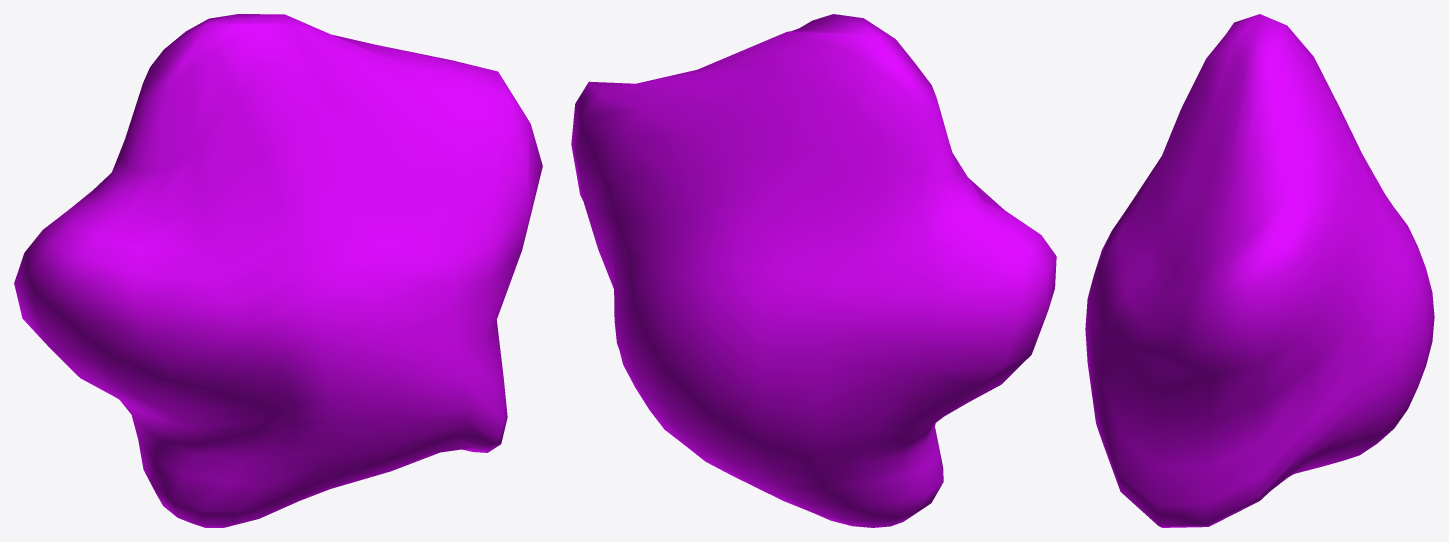
File: BubbleVente.fbx
3 renders of one model, left to right at view 1: azimuth 30°, elevation 25°; view 2: azimuth 150°, elevation 25°; view 3: azimuth 270°, elevation 25°, orthographic. The views are drawn at different scales.
Visible parts, largest first — view 1: pSphere10; view 2: pSphere10; view 3: pSphere10.
Boxes of the visible parts, <box> form: pSphere10: <box>14,14,542,527</box>; pSphere10: <box>571,14,1056,527</box>; pSphere10: <box>1085,14,1434,527</box>.
Size of the model in its own units: 1.31 by 1.26 by 0.8786.
